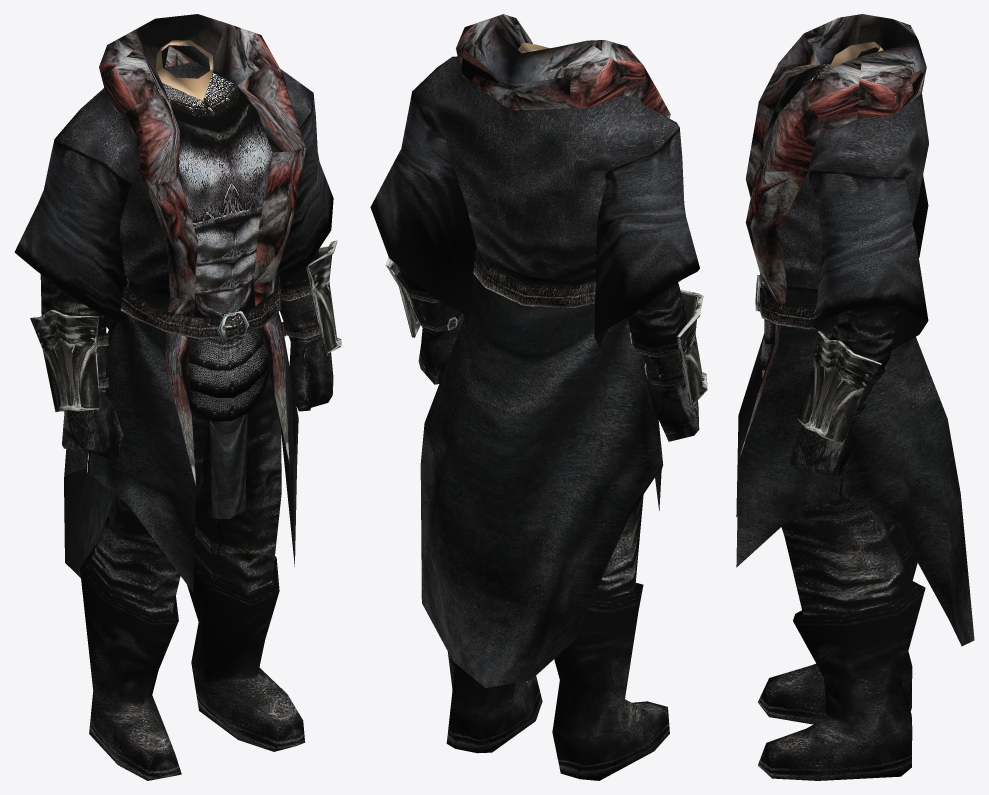
The model's file is HUM_DHT3_ARMOR.glb.
3 renders of one model, left to right at view 1: azimuth 30°, elevation 25°; view 2: azimuth 150°, elevation 25°; view 3: azimuth 270°, elevation 25°, orthographic. The views are drawn at different scales.
Visible parts, largest first — view 1: HUM_DHT3_ARMOR; view 2: HUM_DHT3_ARMOR; view 3: HUM_DHT3_ARMOR.
Part boxes in pixels (box(x1,y1,x2,y2)): HUM_DHT3_ARMOR: box(14, 14, 341, 780); HUM_DHT3_ARMOR: box(370, 14, 707, 780); HUM_DHT3_ARMOR: box(736, 14, 974, 780).
Size of the model in its own units: 0.7658 by 1.71 by 0.5223.
4 materials, 4 textured.
